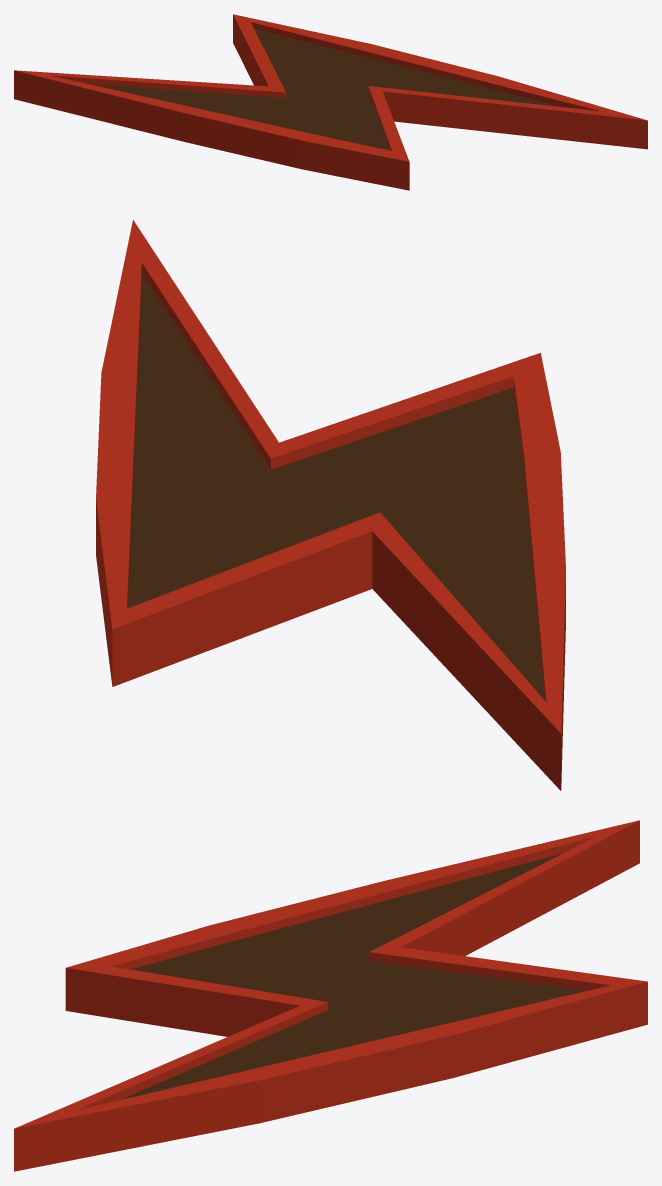
File: ZapIndicator.fbx
The picture shows the model from 3 angles, top to bottom: view 1: azimuth 30°, elevation 25°; view 2: azimuth 150°, elevation 25°; view 3: azimuth 270°, elevation 25°; orthographic projection. The views are drawn at different scales.
Parts seen in each view (by area): view 1: Plane.003; view 2: Plane.003; view 3: Plane.003.
Part boxes in pixels (bbox=[...]): Plane.003: bbox=[14, 14, 647, 190]; Plane.003: bbox=[96, 220, 565, 790]; Plane.003: bbox=[14, 820, 647, 1171].
Size of the model in its own units: 73.6 by 4.79 by 63.92.
